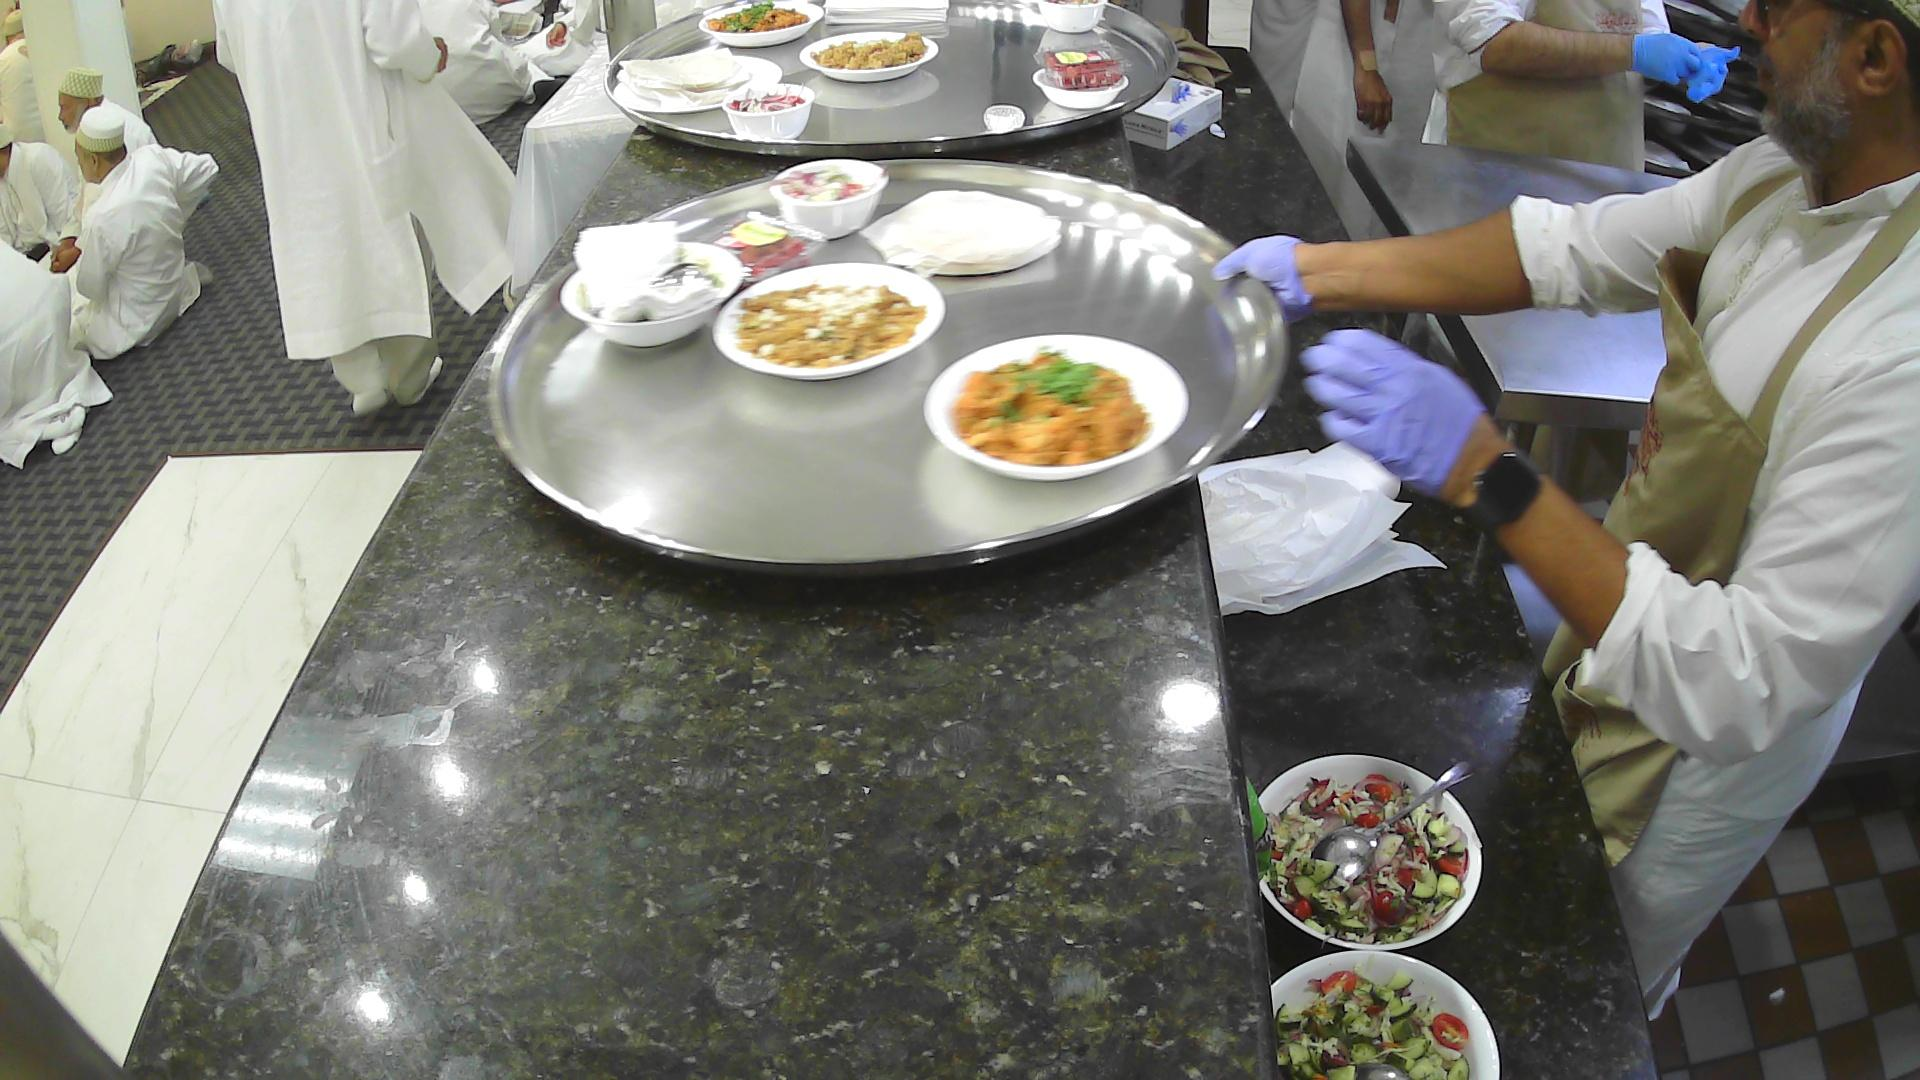thaal: (484, 154, 1291, 582), (603, 0, 1182, 167)
